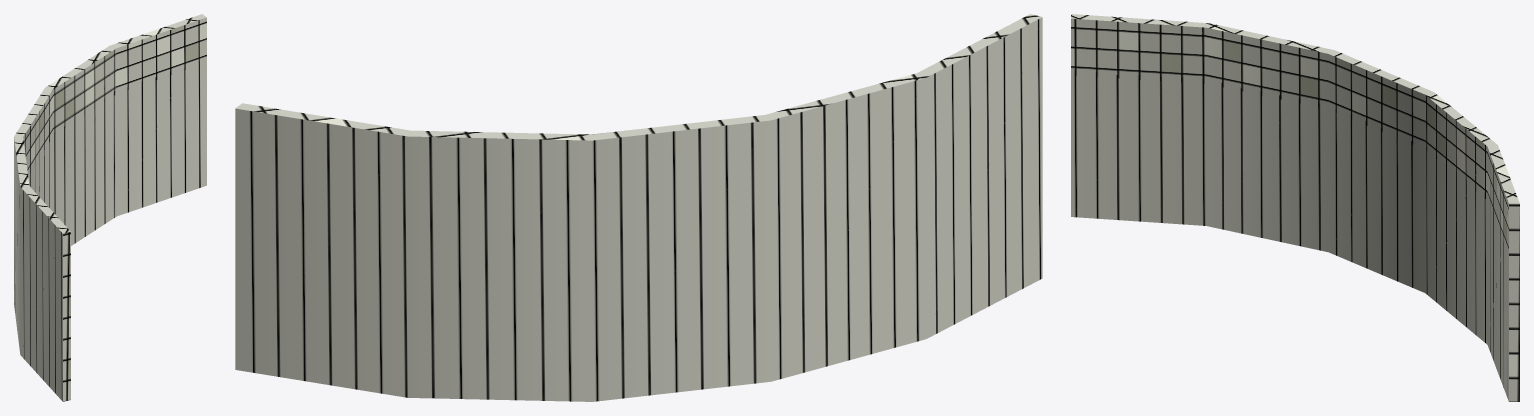
Rendered from TileWallInnerCurved.fbx.
The picture shows the model from 3 angles, left to right: view 1: azimuth 30°, elevation 25°; view 2: azimuth 150°, elevation 25°; view 3: azimuth 270°, elevation 25°; orthographic projection. The views are drawn at different scales.
Parts seen in each view (by area): view 1: TileWallCurvedInner; view 2: TileWallCurvedInner; view 3: TileWallCurvedInner.
Part boxes in pixels (left/top/right/bottom): TileWallCurvedInner: left=14, top=14, right=206, bottom=401; TileWallCurvedInner: left=235, top=14, right=1042, bottom=401; TileWallCurvedInner: left=1071, top=14, right=1519, bottom=401.
Bounding box in the file's own units: 2050 × 1000 × 2050.
